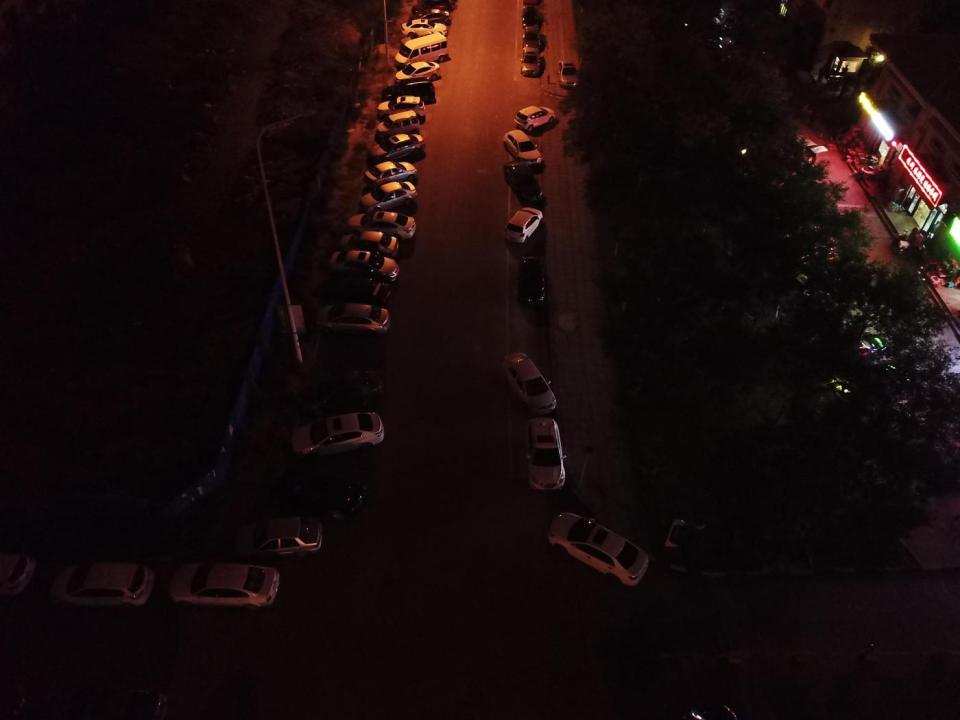car: (542, 510, 650, 590), (167, 559, 288, 618), (48, 556, 156, 610), (274, 467, 369, 522), (232, 515, 324, 560), (520, 414, 570, 494), (289, 416, 391, 455), (302, 371, 390, 414), (499, 351, 558, 412), (310, 302, 391, 342), (828, 328, 896, 365), (328, 249, 400, 282), (321, 274, 390, 304), (500, 159, 544, 205), (394, 33, 450, 68), (347, 210, 416, 238), (517, 248, 550, 305), (360, 180, 418, 212), (499, 124, 542, 166), (367, 132, 426, 161), (339, 231, 400, 258), (502, 207, 544, 244), (381, 75, 436, 103), (363, 160, 420, 186), (377, 95, 425, 123), (400, 19, 449, 41), (392, 61, 440, 83), (514, 105, 556, 128), (555, 58, 581, 89), (409, 10, 452, 28), (399, 30, 439, 49), (520, 44, 540, 79), (410, 0, 453, 16), (520, 24, 541, 50), (416, 8, 451, 23), (520, 6, 540, 28)
van: (788, 129, 827, 162), (374, 110, 420, 137)
